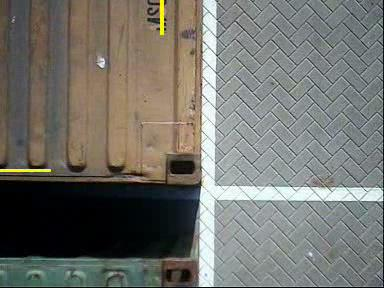groundmarker_2: (161, 182, 264, 220)
